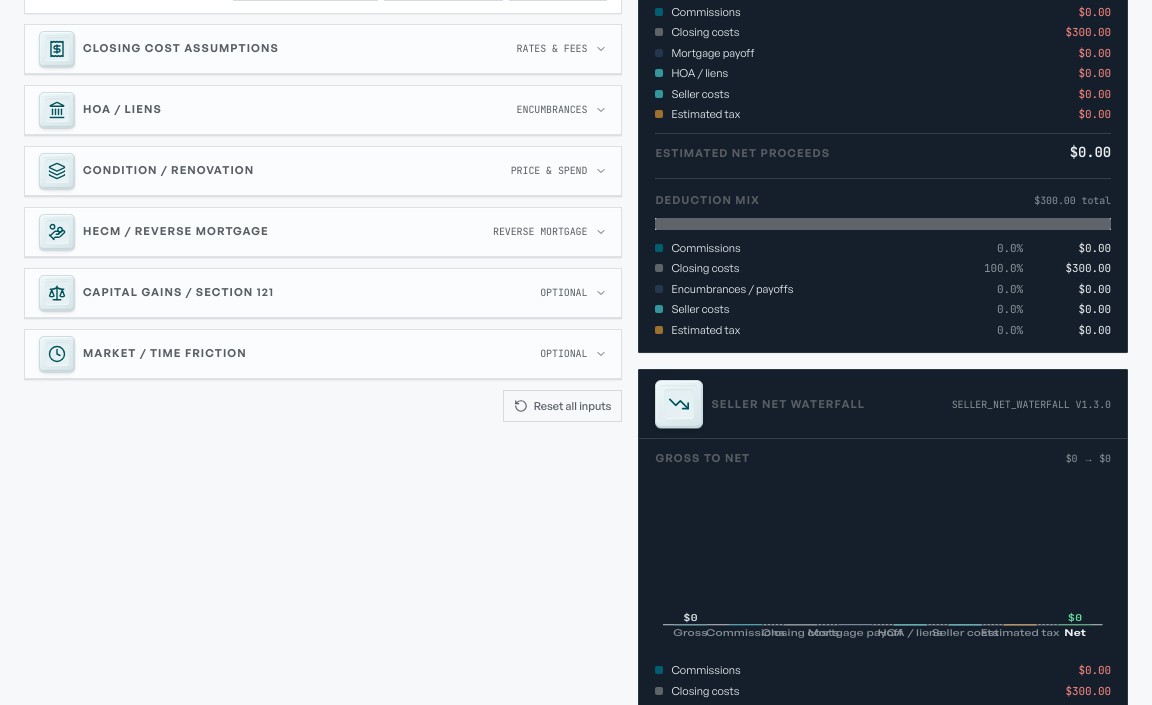
Test: friction section disclosure › is collapsed by default and expands on toggle
(page scrolled)
Click the button with test id "inputs.market_friction.toggle" at (57, 354), box [25,330,621,379]
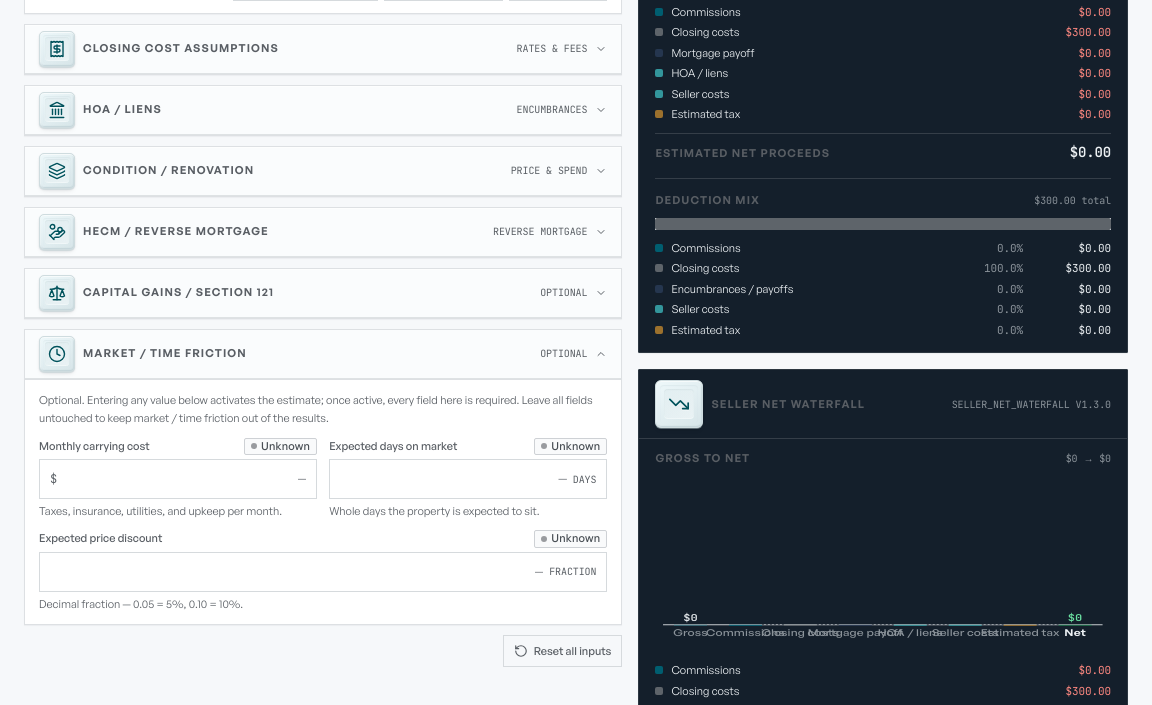
expect the field with test id "inputs.monthly_carrying_cost" is shown: met, box [63,460,306,498]
expect the field with test id "inputs.expected_dom" is shown: met, box [340,460,567,498]
expect the field with test id "inputs.expected_discount" is shown: met, box [50,552,543,590]
